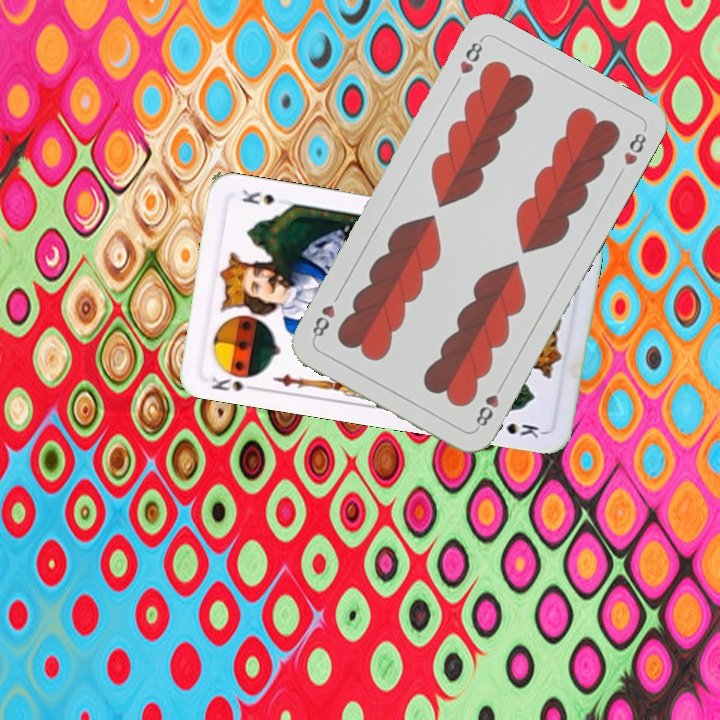H8: (471, 378, 507, 432), (455, 34, 486, 77)
SK: (207, 373, 261, 394)
